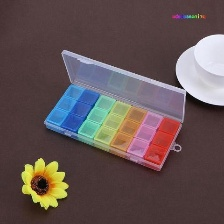plastic_box: (37, 42, 194, 178)
